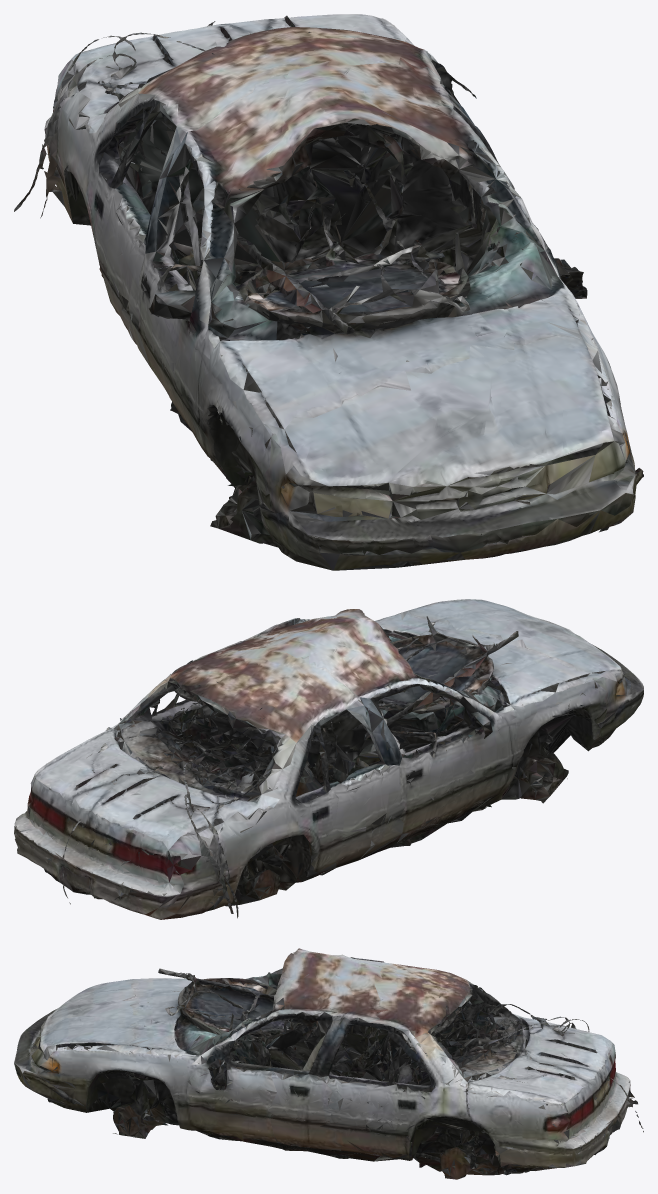
The model's file is car_scan_barricade.glb.
3 renders of one model, top to bottom at view 1: azimuth 30°, elevation 25°; view 2: azimuth 150°, elevation 25°; view 3: azimuth 270°, elevation 25°, orthographic. The views are drawn at different scales.
Visible parts, largest first — view 1: Object_2; view 2: Object_2; view 3: Object_2.
Part boxes in pixels (x1,y1,x2,y2): Object_2: (14, 14, 643, 570); Object_2: (14, 599, 643, 919); Object_2: (14, 948, 643, 1179).
Size of the model in its own units: 2.71 by 1.5 by 5.
1 material, 1 textured.
